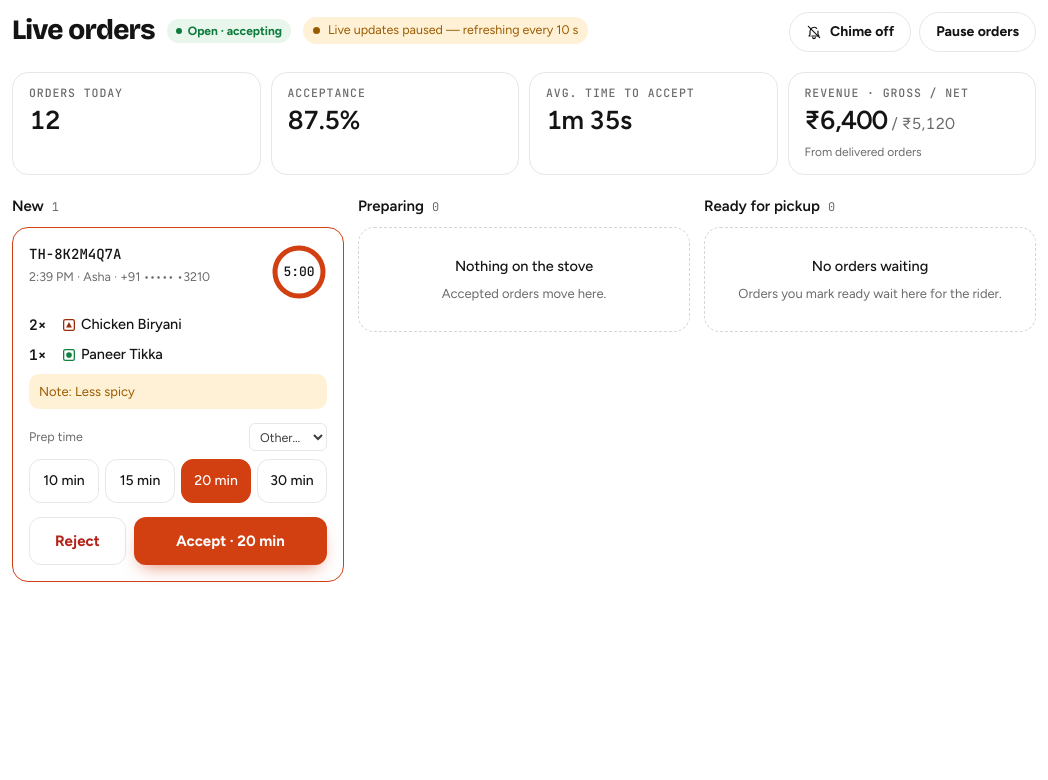
Test: OrdersBoard (board 20) › a failed accept (window closed / taken) toasts the server message and refetches
Step 1. Click the button "Accept · 20 min" → (230, 541), box [134, 517, 327, 565]
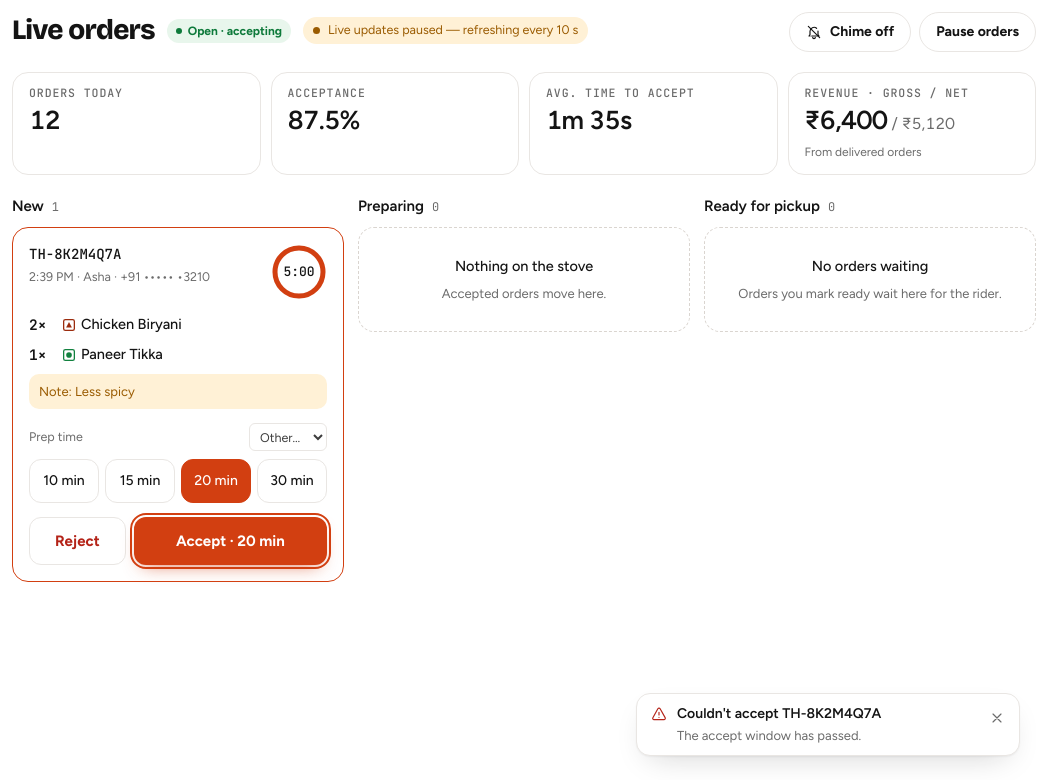
Now the text "The accept window has passed." is shown, box [677, 728, 861, 742]
